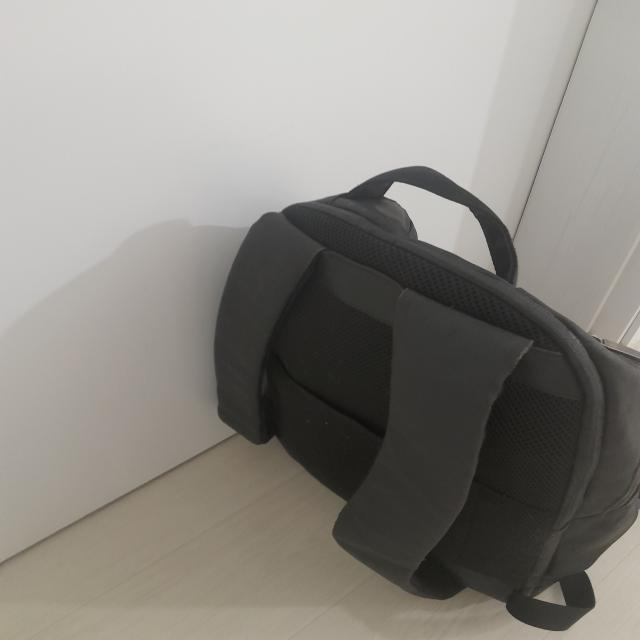backpack: (211, 166, 640, 628)
